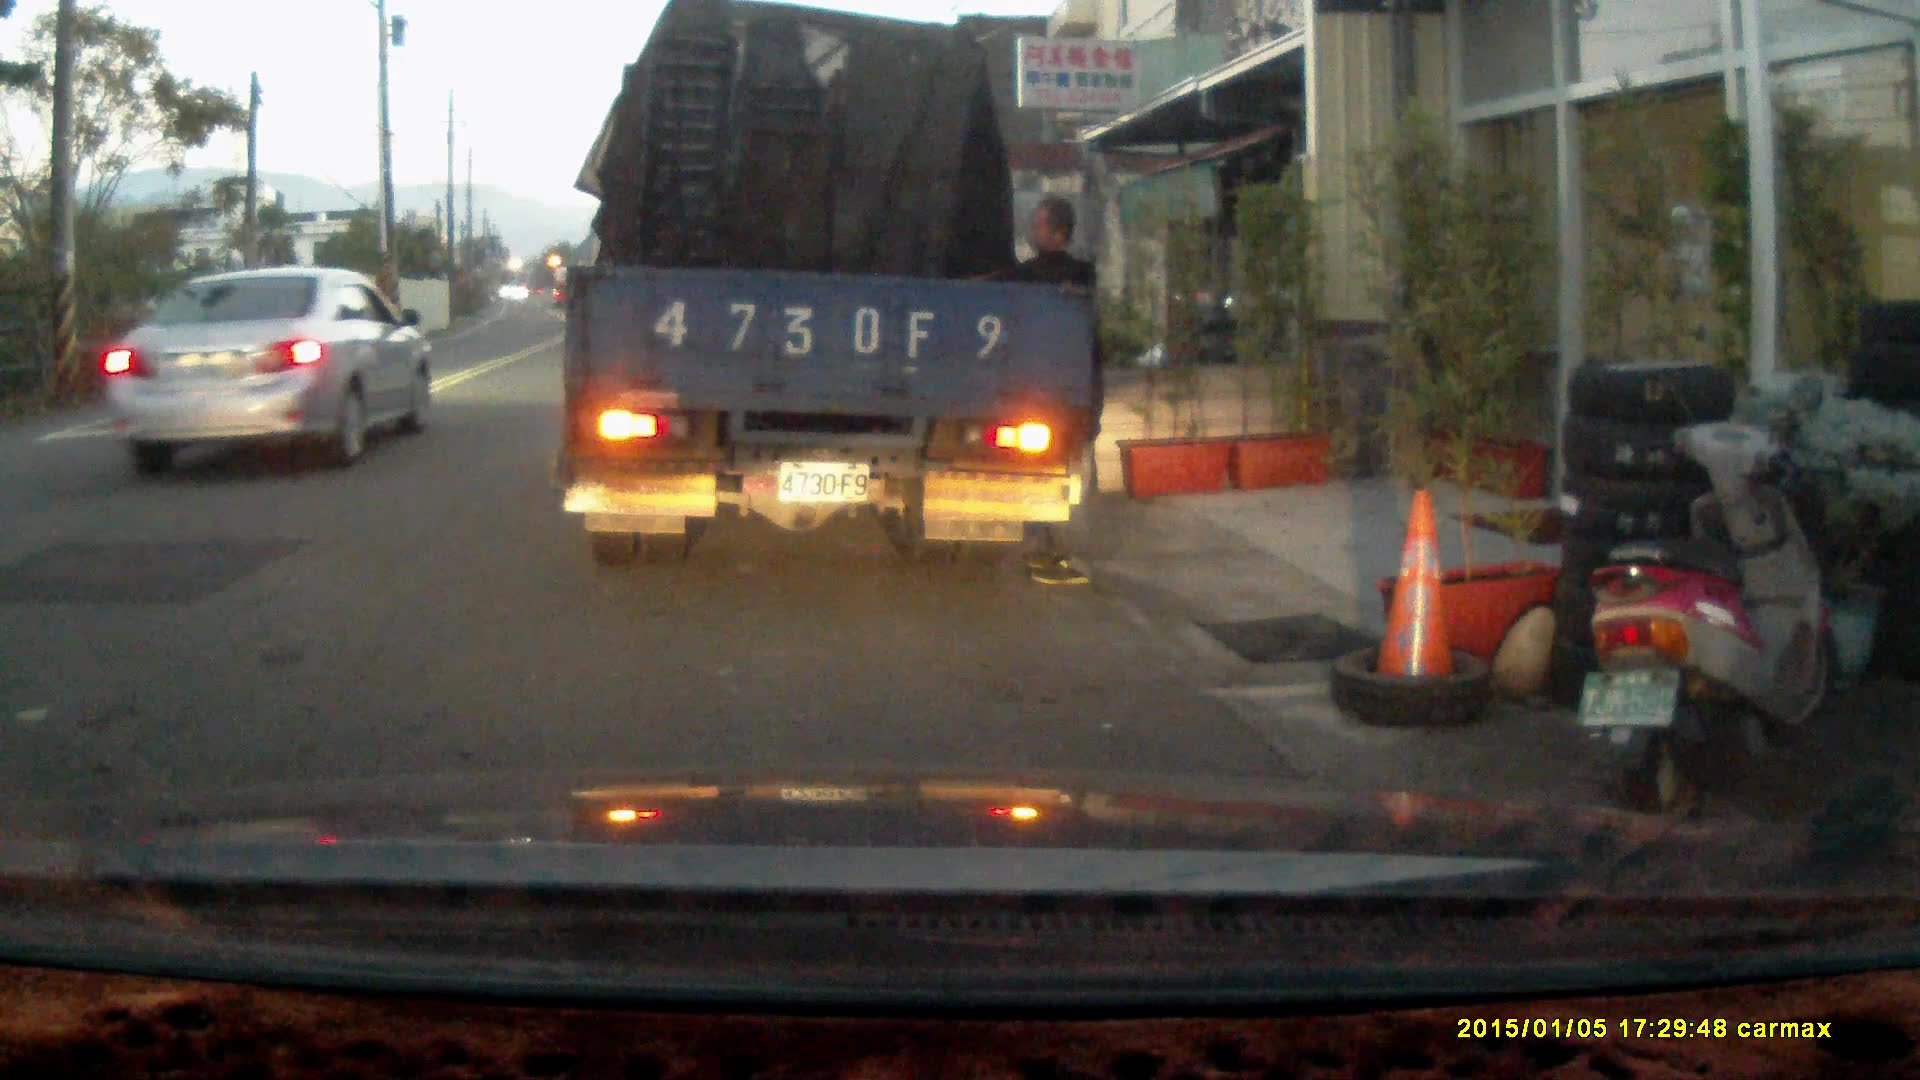pedestrian: (966, 197, 1104, 586)
vehicle: (565, 23, 1097, 572), (81, 267, 432, 476)
